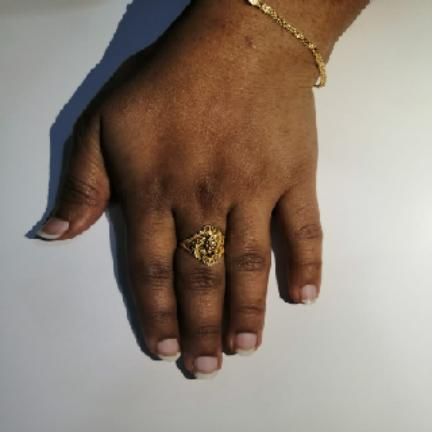Nail: (39, 217, 69, 240), (157, 338, 181, 361), (193, 356, 218, 378), (235, 332, 257, 355), (300, 284, 318, 304)
